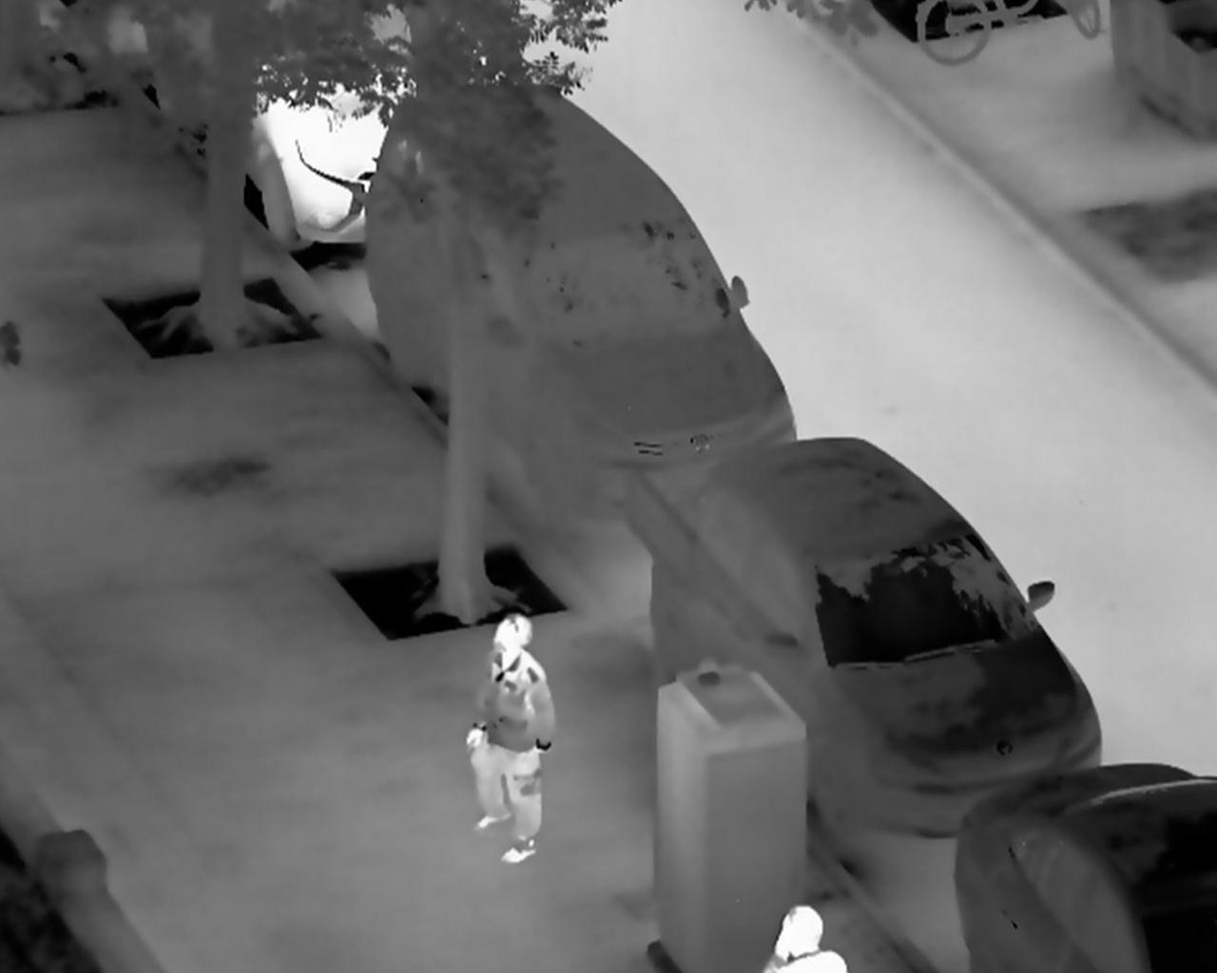person: (464, 613, 560, 866)
